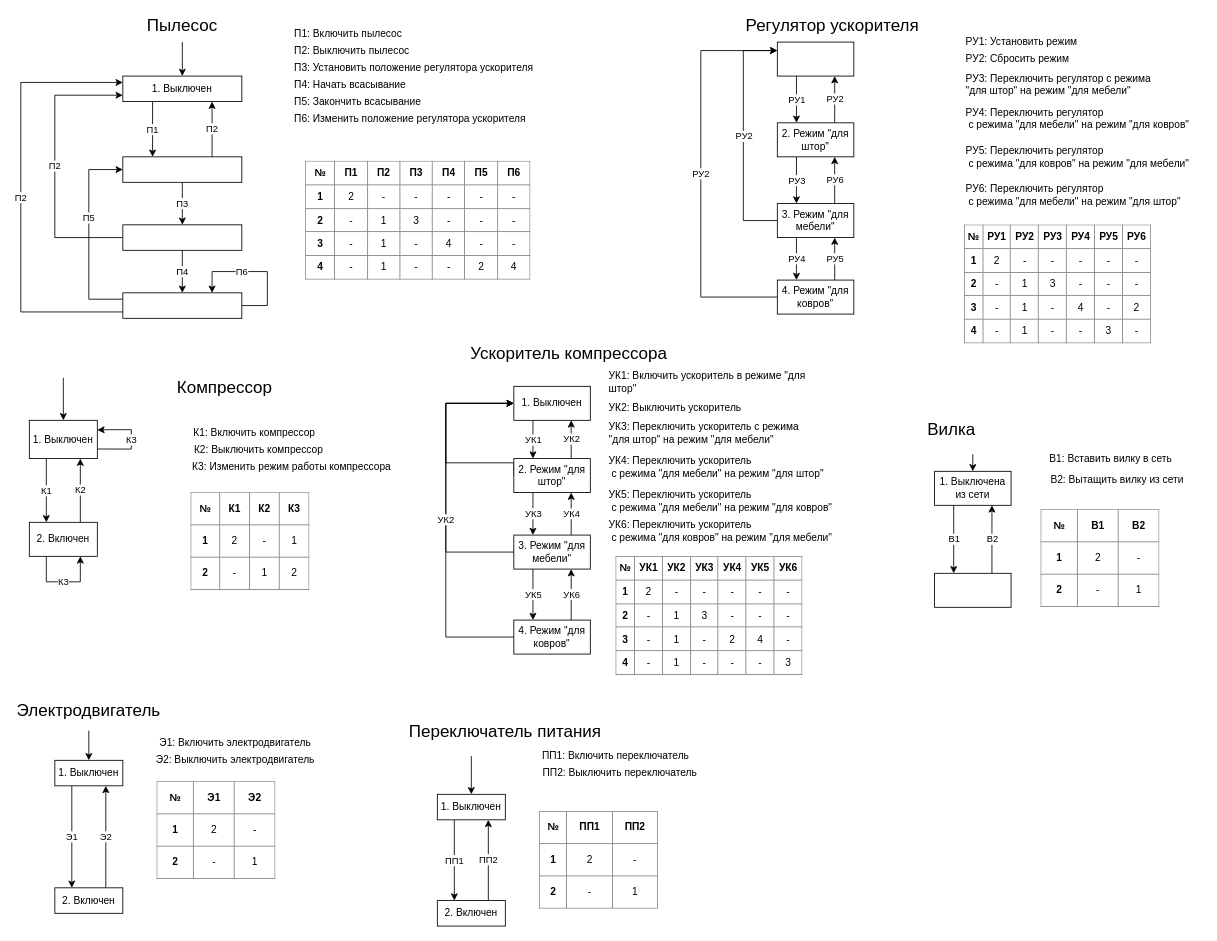
Image size: 1217x941. Some labels were removed from this diagram. The shapes that lost their labels are listed below. From the top down, each one's centre as x and y in pixels, then its label:
At [815,58]: "1. Режим не установлен".
At [182,169]: "2. Готов к работе".
At [182,237]: "3. Установлен режим работы".
At [182,305]: "4. Работает".
At [972,589]: "2. Включена в сеть".
